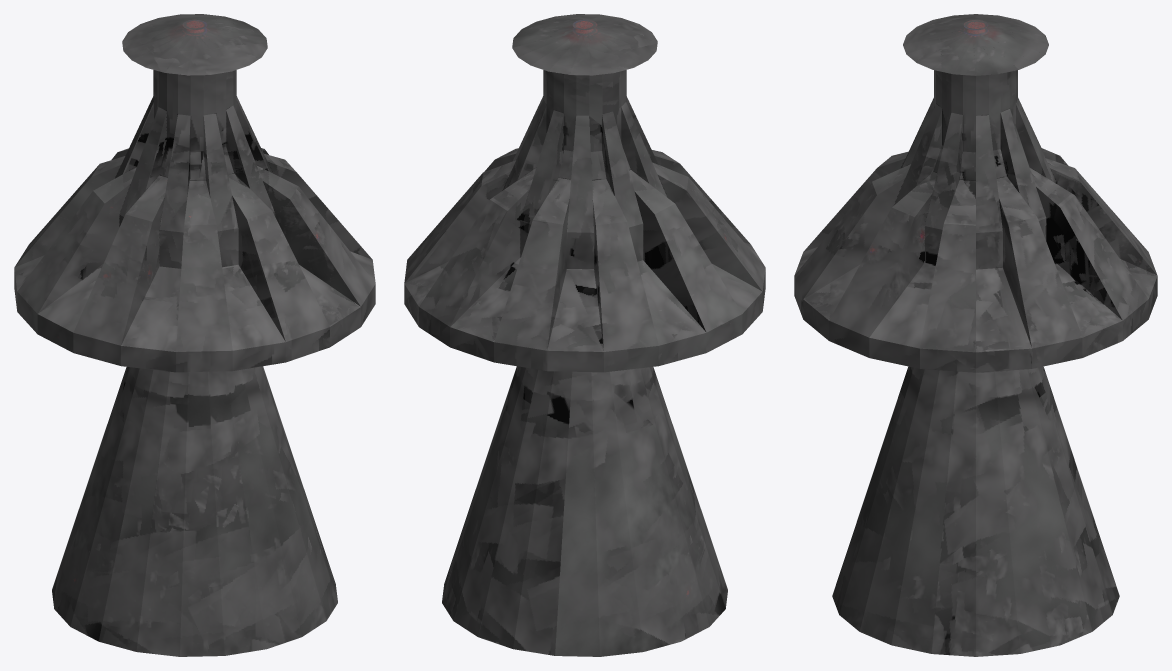
File: turret.obj
The picture shows the model from 3 angles, left to right: view 1: azimuth 30°, elevation 25°; view 2: azimuth 150°, elevation 25°; view 3: azimuth 270°, elevation 25°; orthographic projection.
Visible parts, largest first — view 1: Turret; view 2: Turret; view 3: Turret.
Boxes of the visible parts, x1,y1,x2,y2 form: Turret: (14,14,375,656); Turret: (404,14,765,656); Turret: (794,14,1157,656).
Size of the model in its own units: 2.52 by 4.38 by 2.52.
